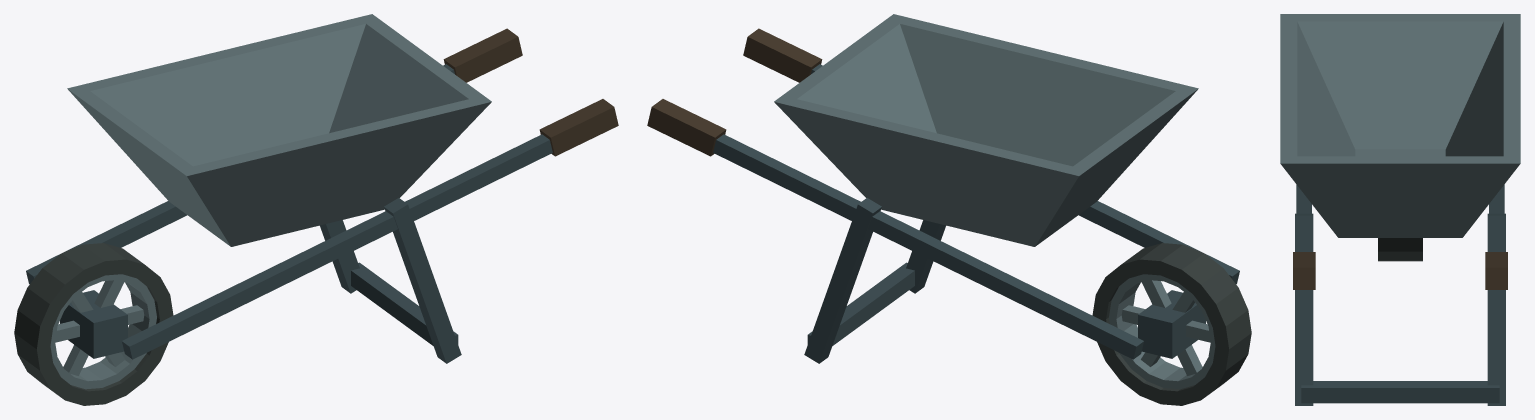
Rendered from Prop_Daily_Wheelbarrow_001.glb.
The picture shows the model from 3 angles, left to right: view 1: azimuth 30°, elevation 25°; view 2: azimuth 150°, elevation 25°; view 3: azimuth 270°, elevation 25°; orthographic projection.
Parts seen in each view (by area): view 1: Prop_Daily_Wheelbarrow_001; view 2: Prop_Daily_Wheelbarrow_001; view 3: Prop_Daily_Wheelbarrow_001.
Part boxes in pixels (bbox=[...]): Prop_Daily_Wheelbarrow_001: bbox=[14, 14, 618, 405]; Prop_Daily_Wheelbarrow_001: bbox=[647, 14, 1251, 405]; Prop_Daily_Wheelbarrow_001: bbox=[1280, 14, 1520, 405].
Size of the model in its own units: 2.21 by 1.01 by 0.85.
